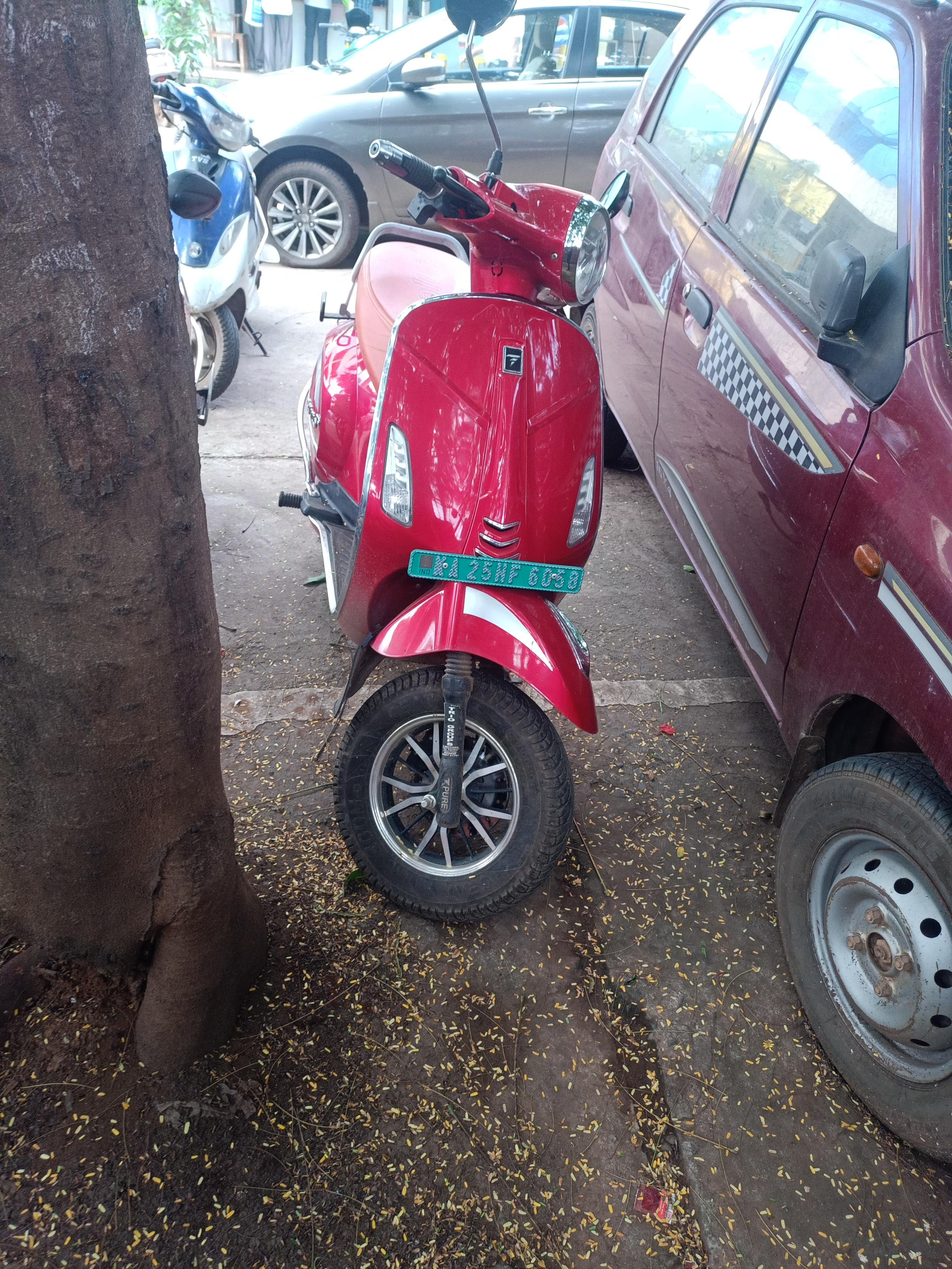green license plate: (397, 543, 591, 598)
